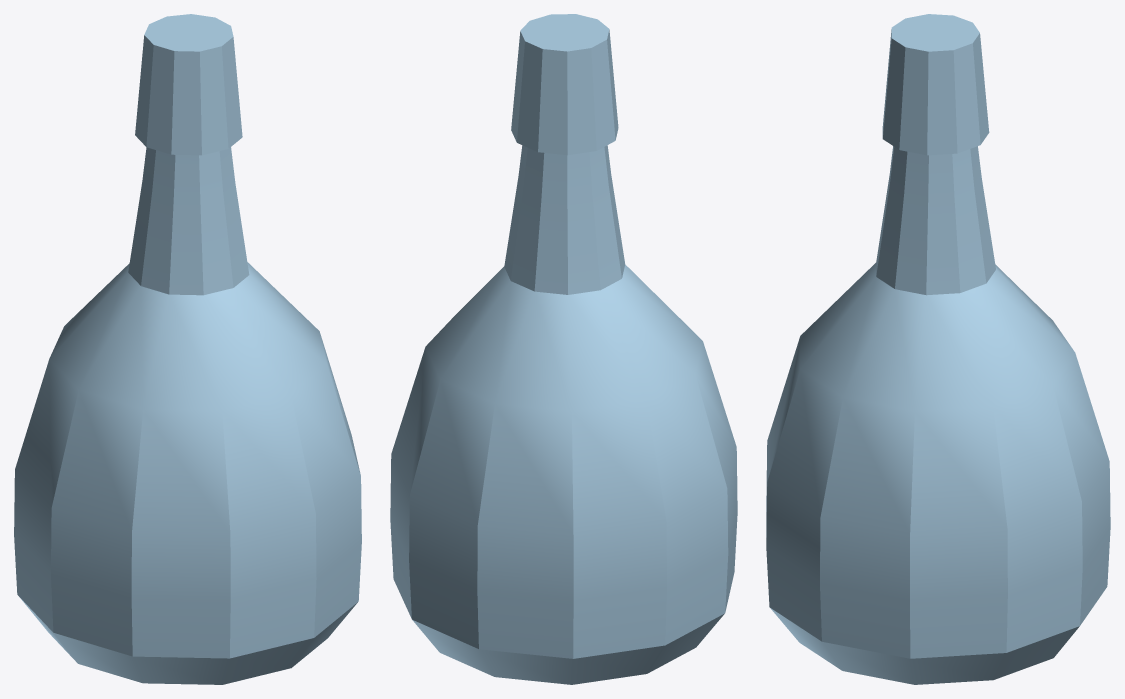
The model's file is 020_Shadow_Bottle_032.fbx.
3 renders of one model, left to right at view 1: azimuth 30°, elevation 25°; view 2: azimuth 150°, elevation 25°; view 3: azimuth 270°, elevation 25°, orthographic.
Visible parts, largest first — view 1: Sphere.017; view 2: Sphere.017; view 3: Sphere.017.
Part boxes in pixels (x1,y1,x2,y2): Sphere.017: (14,14,361,684); Sphere.017: (390,14,737,684); Sphere.017: (766,14,1110,684).
Bounding box in the file's own units: 118 × 224 × 117.
